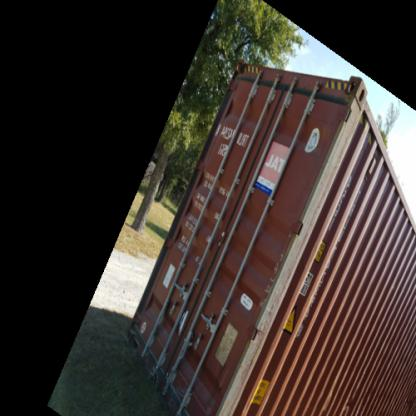Damage: (261, 240, 285, 309), (336, 385, 356, 412), (400, 395, 413, 412)
